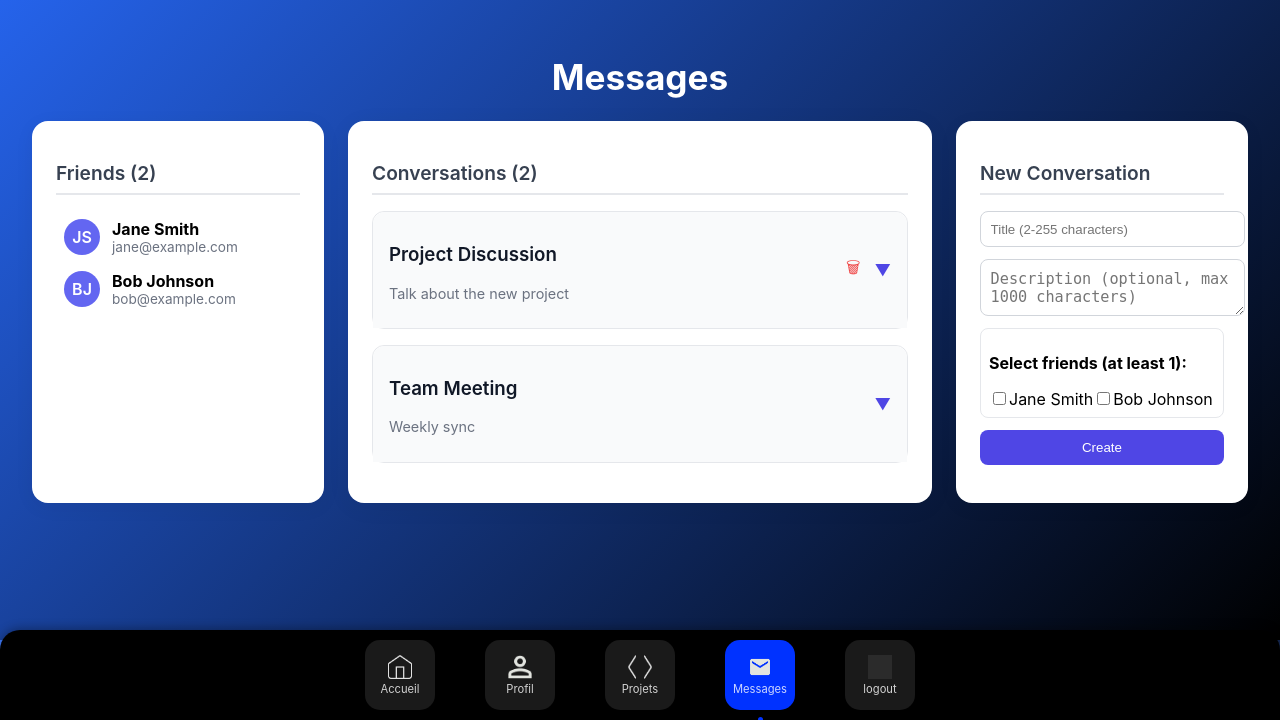
Test: Messages Component › Gestion des conversations › affiche un message si aucun message dans la conversation
Step 1. Click the heading "Project Discussion" → (479, 255), box [389,243,569,266]
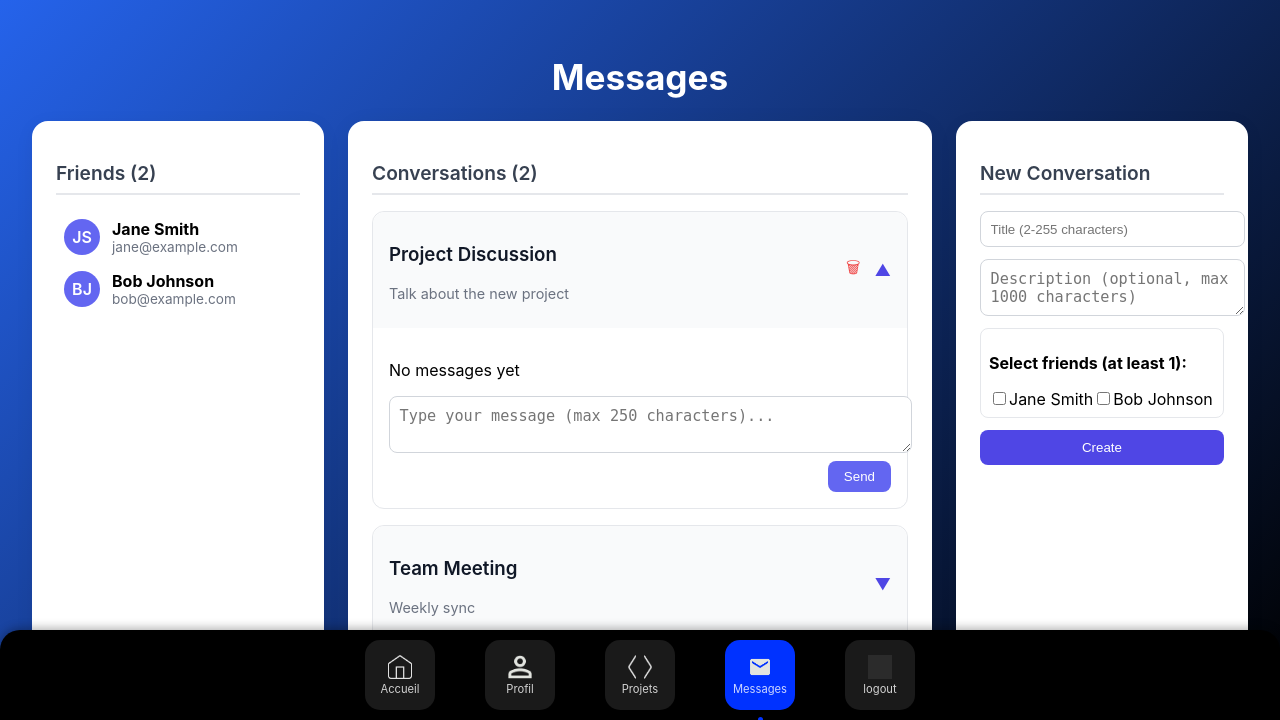
Check: the text "No messages yet" is shown, box [389,360,520,380]
